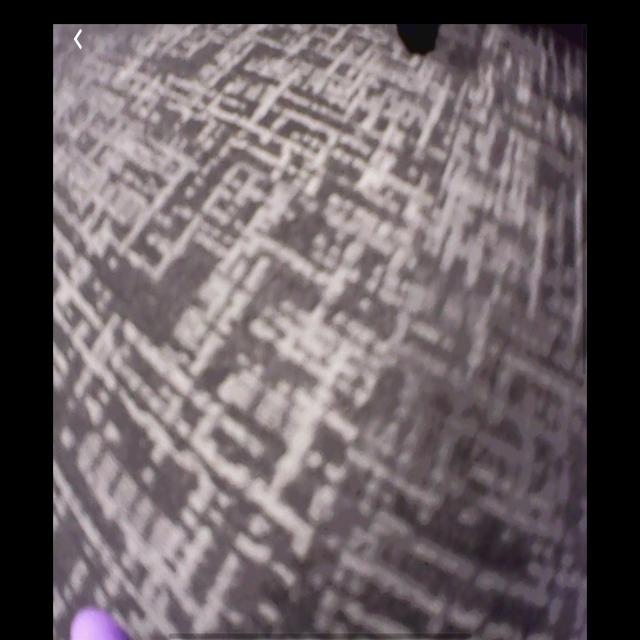ball: (70, 606, 130, 640)
